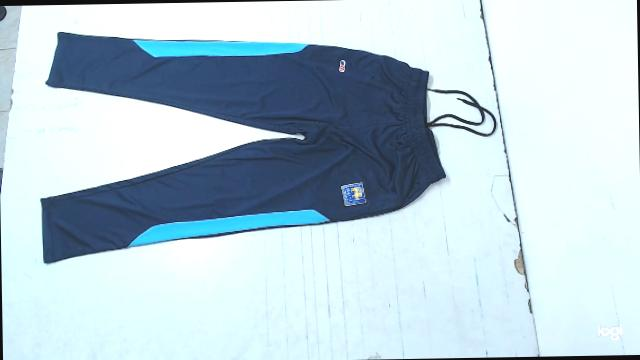new-garment: (42, 32, 445, 262)
